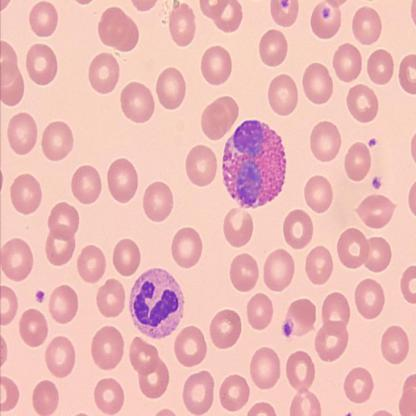Eosinophil: (218, 120, 288, 212)
